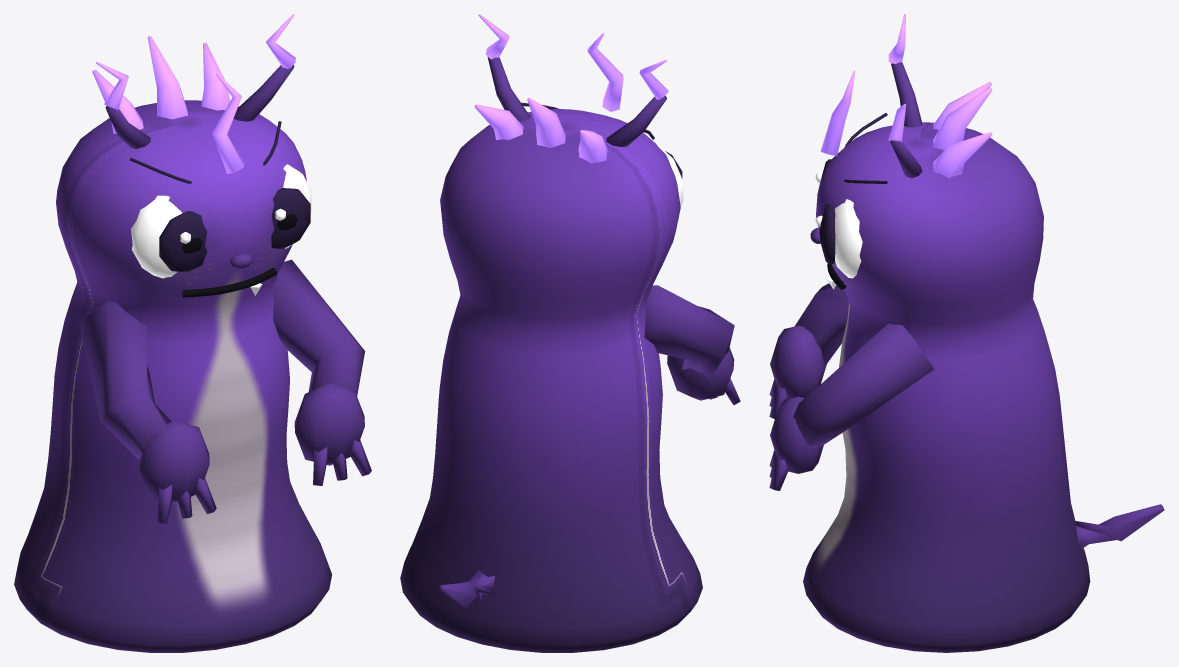
File: oculta_pixar.glb
The picture shows the model from 3 angles, left to right: view 1: azimuth 30°, elevation 25°; view 2: azimuth 150°, elevation 25°; view 3: azimuth 270°, elevation 25°; orthographic projection. The views are drawn at different scales.
Visible parts, largest first — view 1: oculta_cuerpo; view 2: oculta_cuerpo; view 3: oculta_cuerpo.
Part boxes in pixels (x1,y1,x2,y2): oculta_cuerpo: [14, 14, 371, 652]; oculta_cuerpo: [400, 14, 740, 652]; oculta_cuerpo: [769, 14, 1164, 652].
Bounding box in the file's own units: 0.2973 × 0.58 × 0.3893.
Materials: 5 (1 with a texture image).
